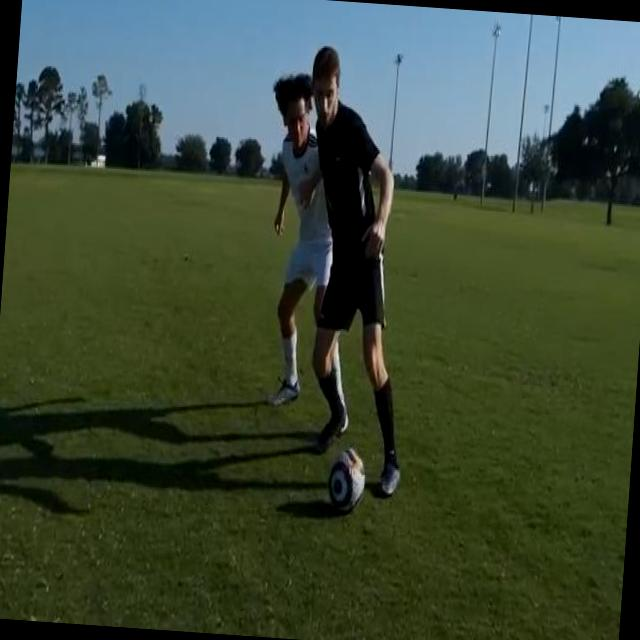Soccer Ball: (326, 446, 368, 514)
